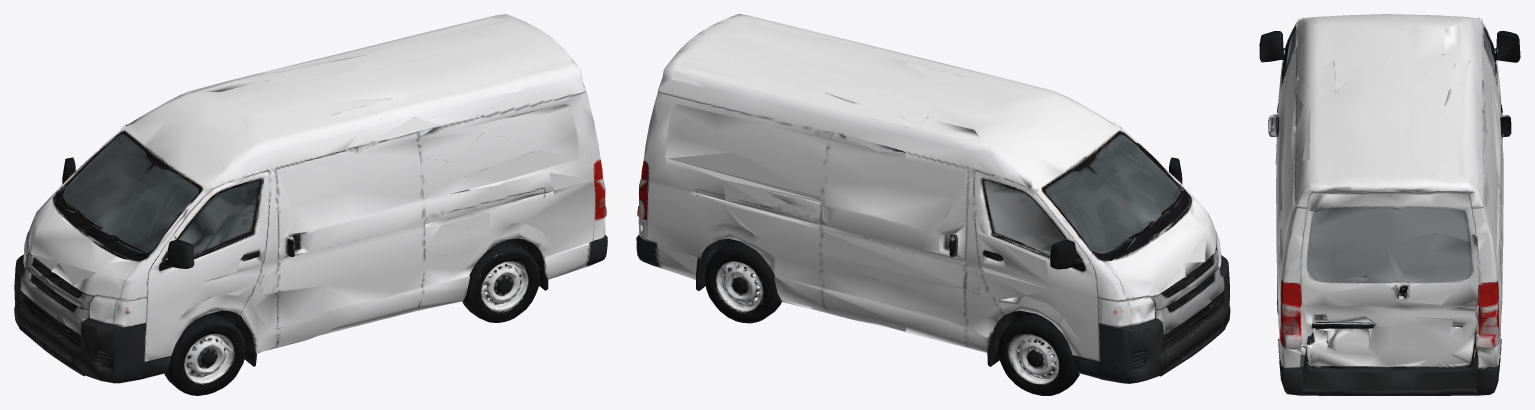
Rendered from vehicle_van_model.glb.
3 renders of one model, left to right at view 1: azimuth 30°, elevation 25°; view 2: azimuth 150°, elevation 25°; view 3: azimuth 270°, elevation 25°, orthographic. The views are drawn at different scales.
Parts seen in each view (by area): view 1: Mesh_0.004; view 2: Mesh_0.004; view 3: Mesh_0.004.
Part boxes in pixels (x1,y1,x2,y2): Mesh_0.004: (14, 14, 607, 395); Mesh_0.004: (636, 14, 1230, 395); Mesh_0.004: (1259, 14, 1520, 395).
Size of the model in its own units: 4.42 by 1.9 by 1.82.
Materials: 1 (1 with a texture image).
